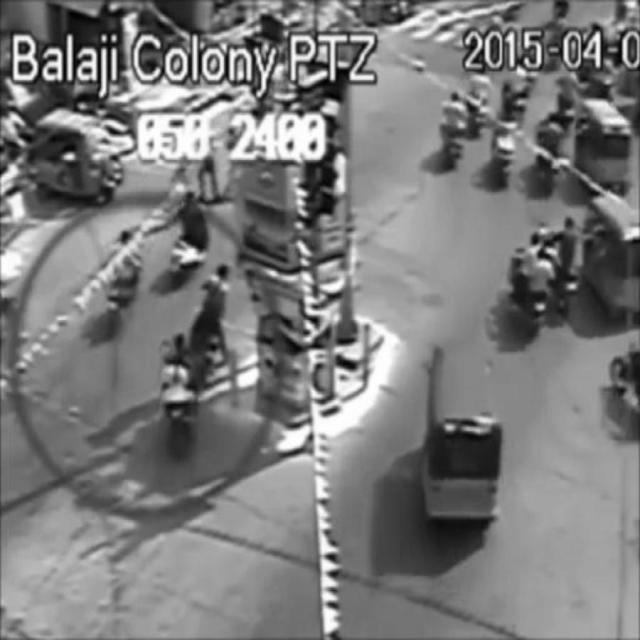accident: (161, 265, 243, 455)
vehicle: (428, 342, 505, 542), (33, 102, 115, 210), (574, 102, 634, 200), (538, 208, 585, 308), (507, 235, 557, 327), (99, 226, 140, 328), (171, 187, 213, 285), (490, 108, 522, 182), (439, 88, 467, 168)
